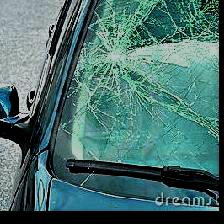glass_shatter: (52, 0, 219, 177)
